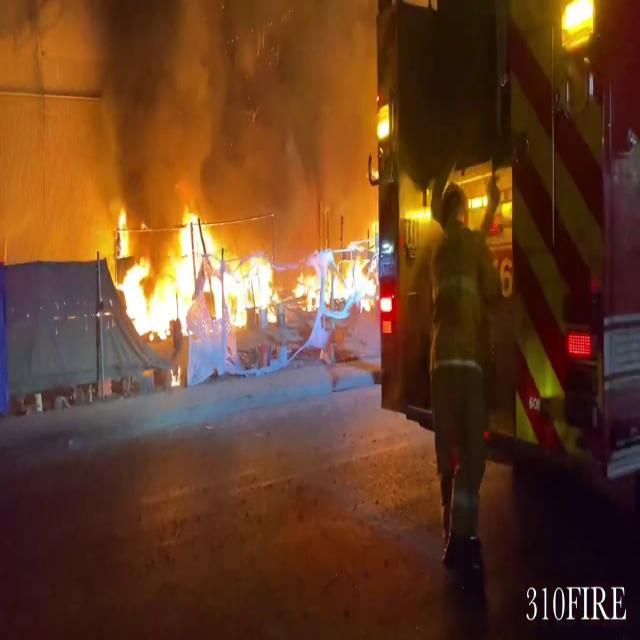Fire: (107, 200, 379, 362)
Smoke: (20, 0, 376, 217)
